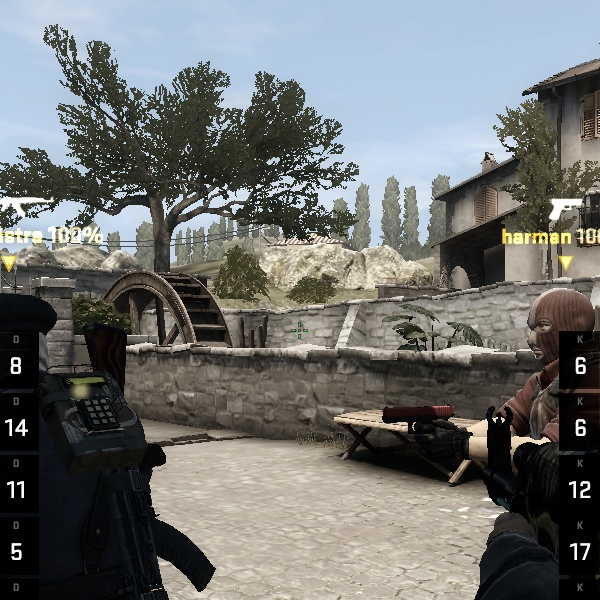t_body: (0, 269, 211, 600), (428, 268, 597, 597)
t_head: (505, 274, 600, 385)
